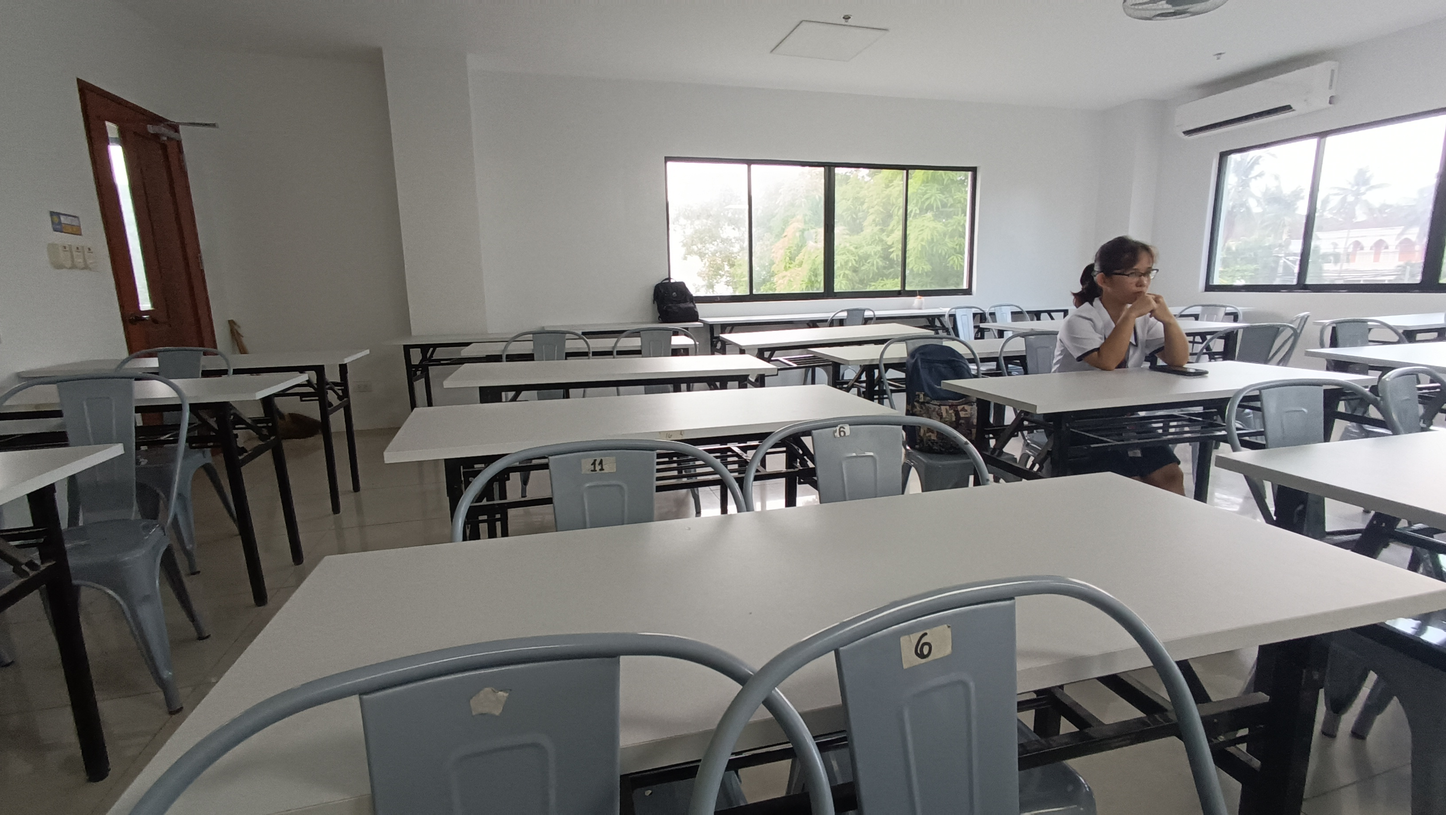with-student: (927, 228, 1379, 472)
